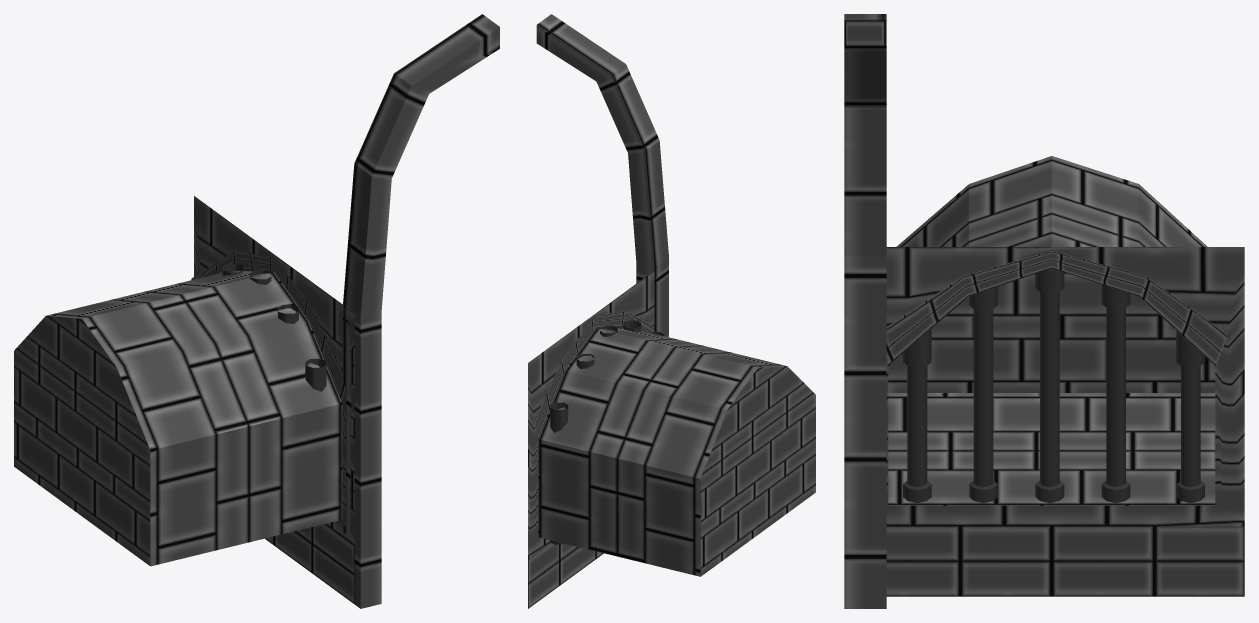
File: Wall_Dungeon.fbx
3 renders of one model, left to right at view 1: azimuth 30°, elevation 25°; view 2: azimuth 150°, elevation 25°; view 3: azimuth 270°, elevation 25°, orthographic. The views are drawn at different scales.
Visible parts, largest first — view 1: pCube86; view 2: pCube86; view 3: pCube86.
Boxes of the visible parts, left/top/right/bottom form: pCube86: left=14, top=14, right=499, bottom=608; pCube86: left=528, top=14, right=815, bottom=608; pCube86: left=844, top=14, right=1244, bottom=608.
Bounding box in the file's own units: 357 × 565 × 311.
